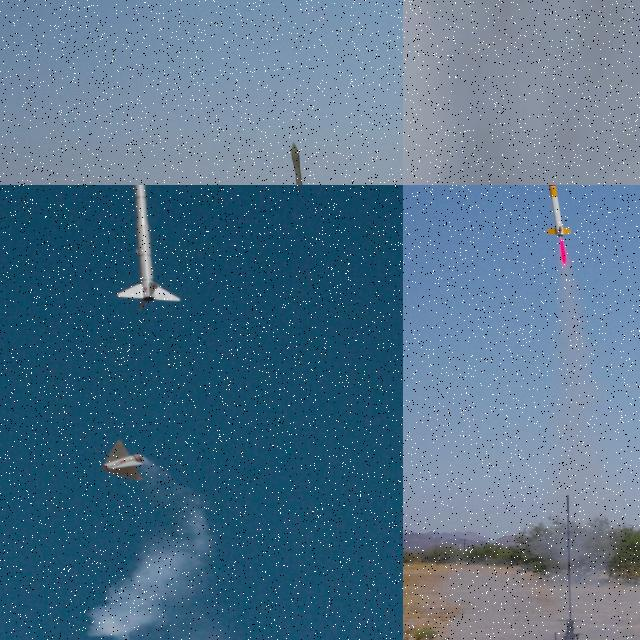Rocket: (115, 185, 182, 311), (545, 185, 571, 237), (289, 141, 312, 185)
